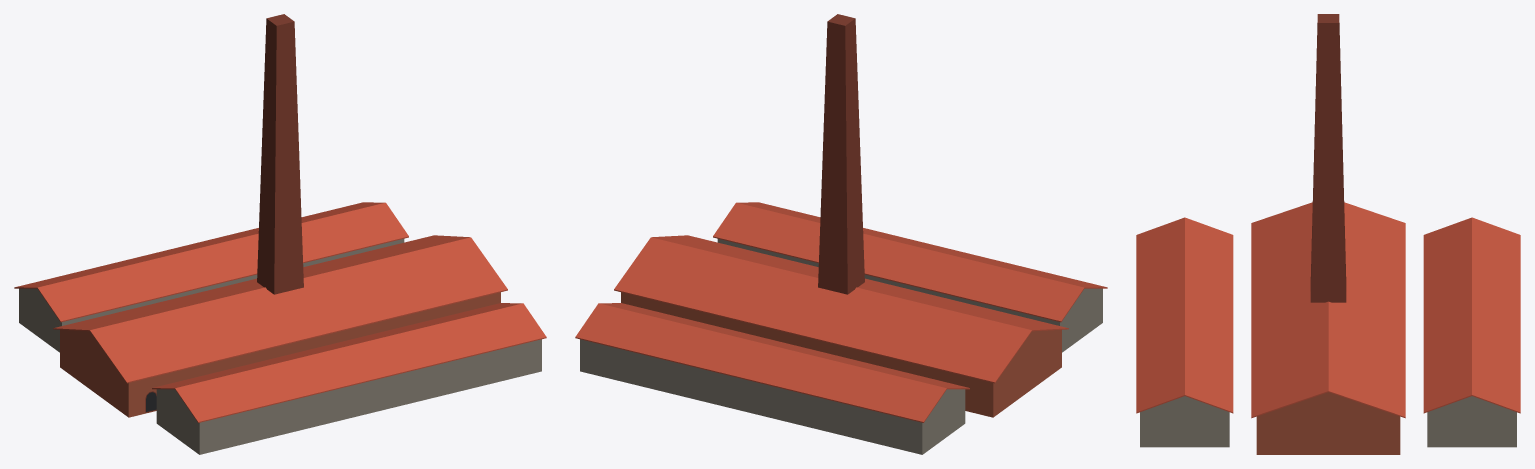
The model's file is briqueterie_hoffmann.glb.
3 renders of one model, left to right at view 1: azimuth 30°, elevation 25°; view 2: azimuth 150°, elevation 25°; view 3: azimuth 270°, elevation 25°, orthographic. The views are drawn at different scales.
Visible parts, largest first — view 1: briqueterie_hoffmann; view 2: briqueterie_hoffmann; view 3: briqueterie_hoffmann.
Part boxes in pixels (bbox=[...]): briqueterie_hoffmann: bbox=[14, 14, 546, 454]; briqueterie_hoffmann: bbox=[575, 14, 1107, 454]; briqueterie_hoffmann: bbox=[1136, 14, 1520, 454].
Bounding box in the file's own units: 51.2 × 42 × 42.8.
Materials: 1 (1 with a texture image).
